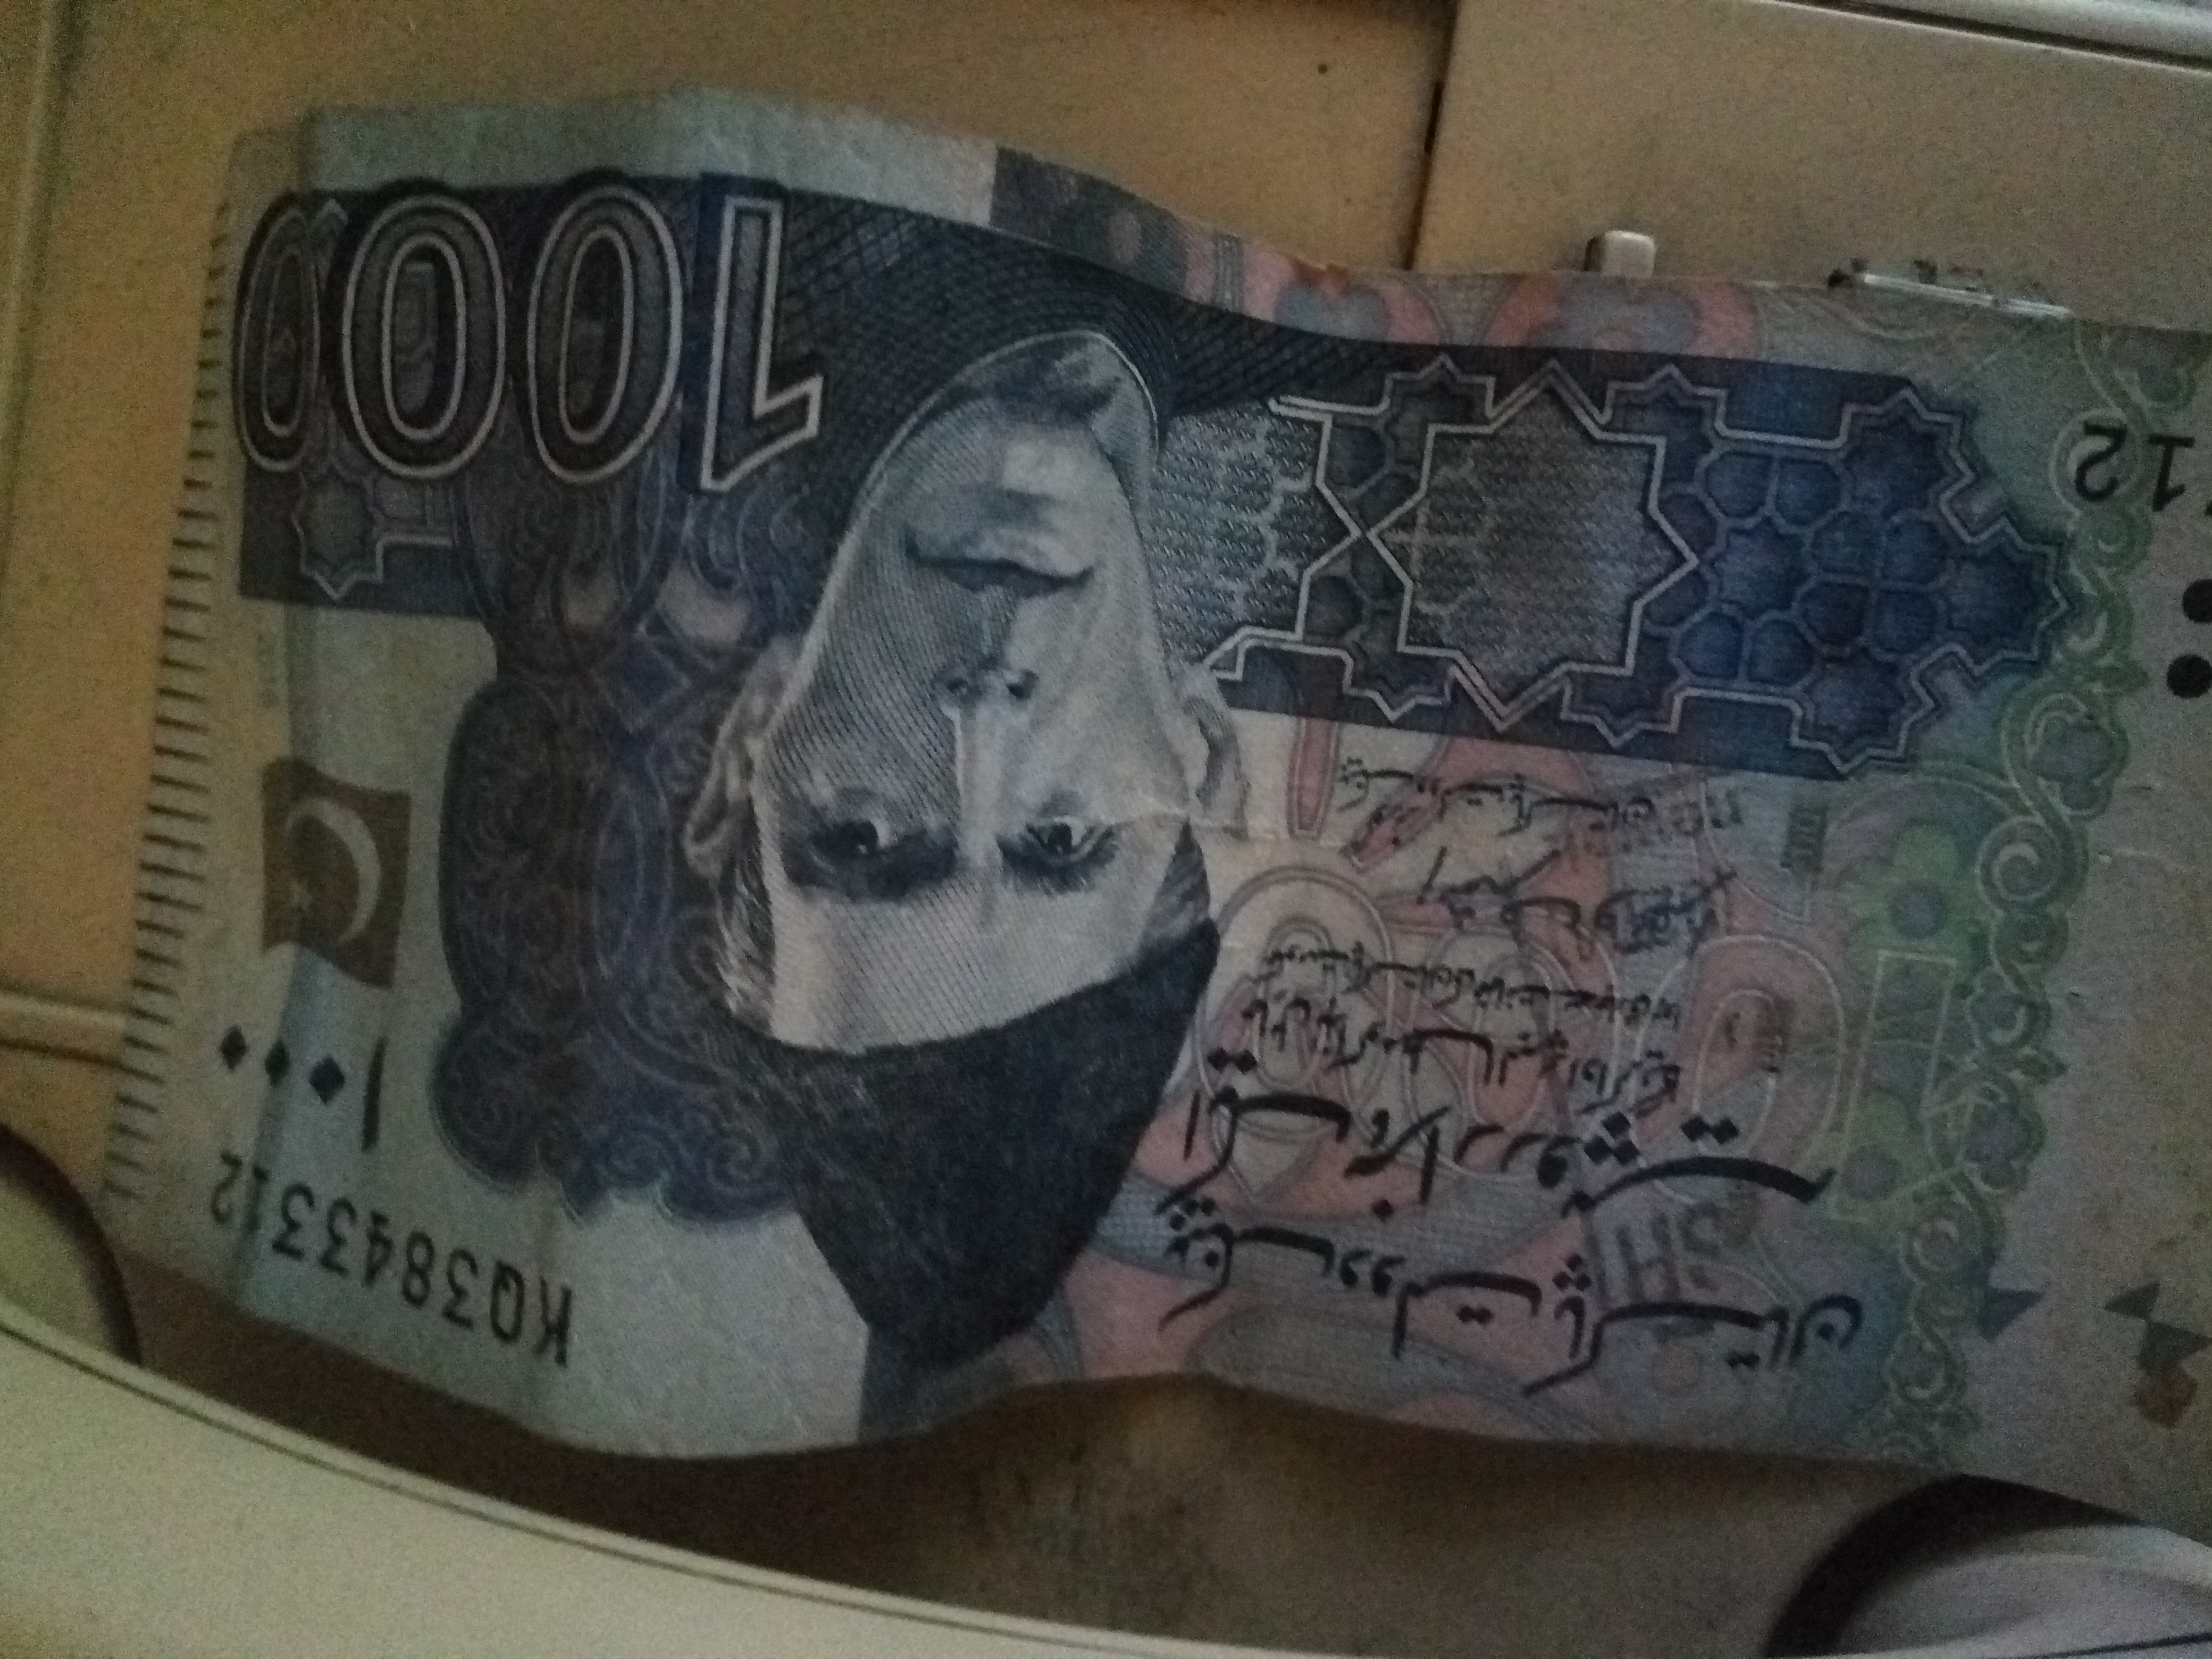1000 rupee: (111, 66, 2200, 1645)
